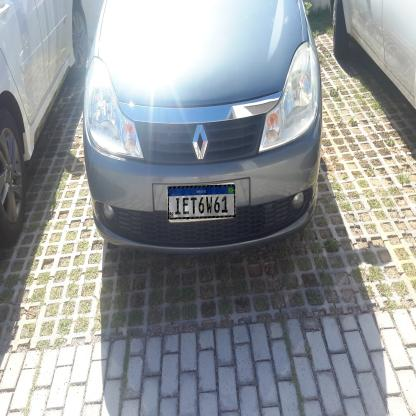PlacaM: (168, 184, 236, 219)
